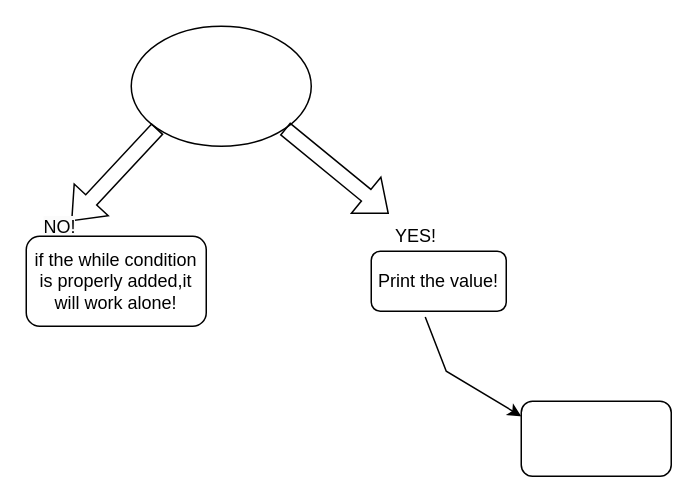
This 698x503 diagram has some shape labels left out. The shapes that lost their labels are listed below. From the top down, each one's centre as x and y in pixels, then its label:
At point (220, 85): "i <= n".
At point (595, 438): "New line IF THE CONDITIONS IS ANSWERED".
